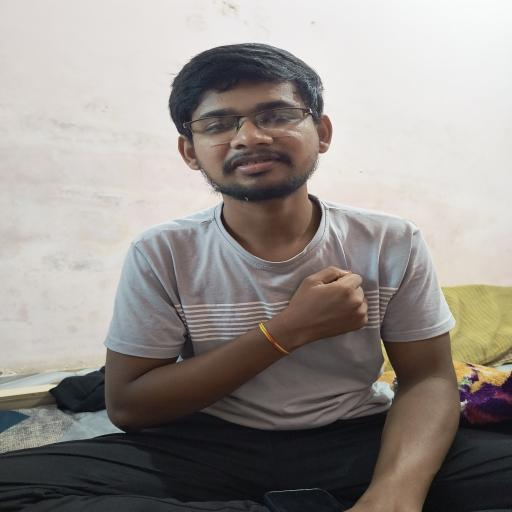Understood: (96, 206, 381, 456)
